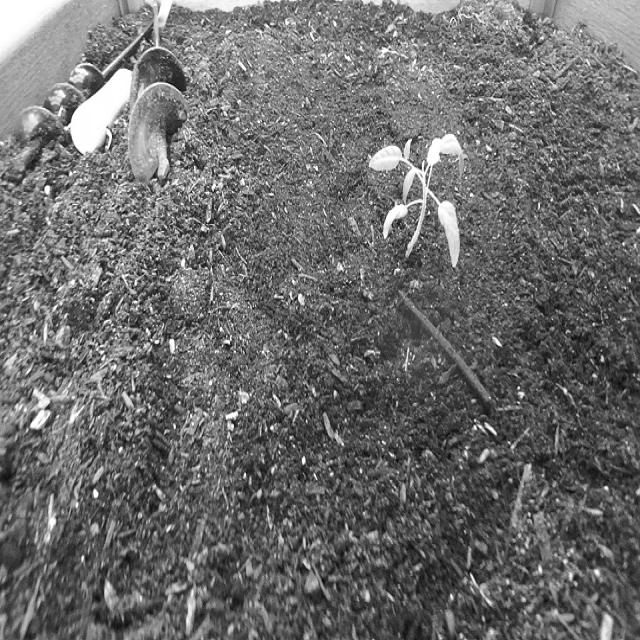Healthy: (359, 106, 473, 290)
